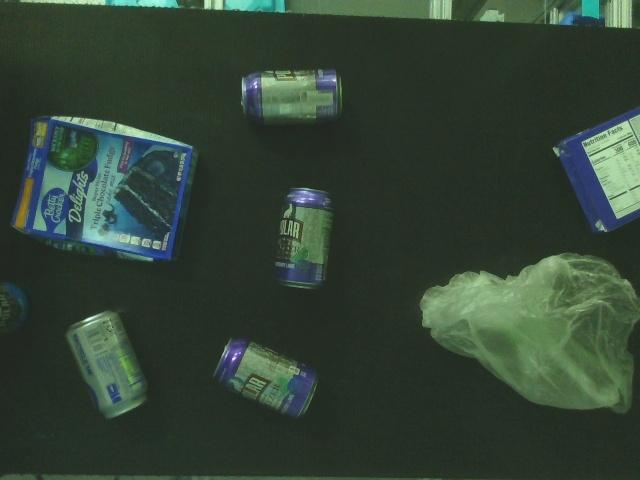cardboard: (10, 112, 198, 268), (552, 104, 640, 237)
metal: (212, 332, 332, 426), (65, 308, 150, 424), (272, 186, 336, 292), (240, 66, 343, 130), (0, 283, 34, 340)
plastic: (417, 250, 640, 416)
